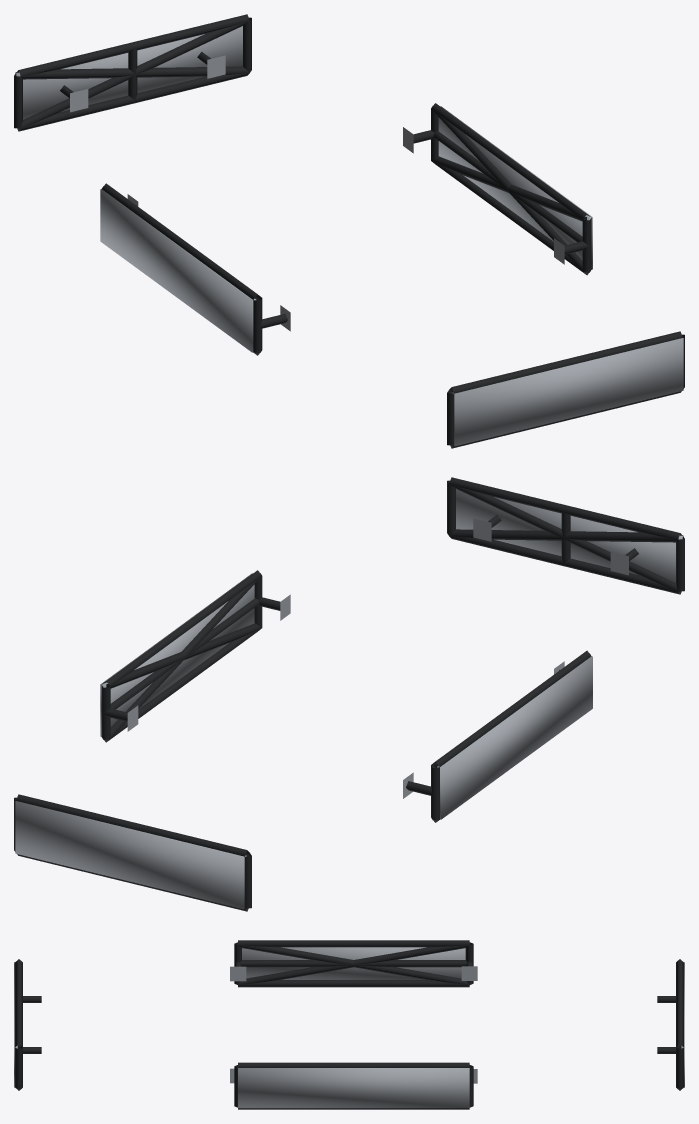
File: ishigumo_dique_protecao.glb
3 renders of one model, top to bottom at view 1: azimuth 30°, elevation 25°; view 2: azimuth 150°, elevation 25°; view 3: azimuth 270°, elevation 25°, orthographic. The views are drawn at different scales.
Visible parts, largest first — view 1: Protection_front_Level3_Details, Protection_left_Level3_Details, Protection_rear_Level1_Details, Protection_rear_Level3_Details, Protection_right_Level1_Details, Protection_rear_Level2_Details, Protection_right_Level2_Details, Protection_right_Level3_Details, Protection_front_Level1_Details, Protection_left_Level1_Details; view 2: Protection_rear_Level3_Details, Protection_left_Level3_Details, Protection_front_Level1_Details, Protection_front_Level3_Details, Protection_right_Level1_Details, Protection_front_Level2_Details, Protection_right_Level2_Details, Protection_right_Level3_Details, Protection_rear_Level1_Details, Protection_left_Level1_Details; view 3: Protection_right_Level3_Details, Protection_left_Level2_Details, Protection_left_Level1_Details, Protection_left_Level3_Details, Protection_right_Level1_Details, Protection_rear_Level1_Details, Protection_front_Level1_Details.
Boxes of the visible parts, box(x1,y1,x2,y2) form: Protection_front_Level3_Details: box(452, 338, 683, 446); Protection_left_Level3_Details: box(100, 189, 256, 352); Protection_rear_Level1_Details: box(14, 14, 251, 131); Protection_rear_Level3_Details: box(15, 26, 242, 119); Protection_right_Level1_Details: box(403, 103, 591, 275); Protection_rear_Level2_Details: box(16, 21, 249, 130); Protection_right_Level2_Details: box(431, 109, 590, 274); Protection_right_Level3_Details: box(438, 106, 592, 269); Protection_front_Level1_Details: box(447, 331, 684, 448); Protection_left_Level1_Details: box(102, 183, 290, 355); Protection_rear_Level3_Details: box(15, 801, 246, 909); Protection_left_Level3_Details: box(437, 656, 592, 819); Protection_front_Level1_Details: box(447, 477, 684, 594); Protection_front_Level3_Details: box(456, 489, 683, 582); Protection_right_Level1_Details: box(101, 570, 290, 742); Protection_front_Level2_Details: box(449, 484, 682, 593); Protection_right_Level2_Details: box(103, 576, 261, 741); Protection_right_Level3_Details: box(100, 573, 254, 736); Protection_rear_Level1_Details: box(14, 794, 251, 911); Protection_left_Level1_Details: box(403, 650, 591, 822); Protection_right_Level3_Details: box(238, 1068, 469, 1108); Protection_left_Level2_Details: box(237, 943, 469, 985); Protection_left_Level1_Details: box(230, 940, 477, 987); Protection_left_Level3_Details: box(242, 947, 465, 979); Protection_right_Level1_Details: box(230, 1062, 477, 1109); Protection_rear_Level1_Details: box(657, 959, 683, 1090); Protection_front_Level1_Details: box(15, 959, 41, 1090).
Bounding box in the file's own units: 2.05 × 0.354 × 4.58.
Materials: 1 (1 with a texture image).
